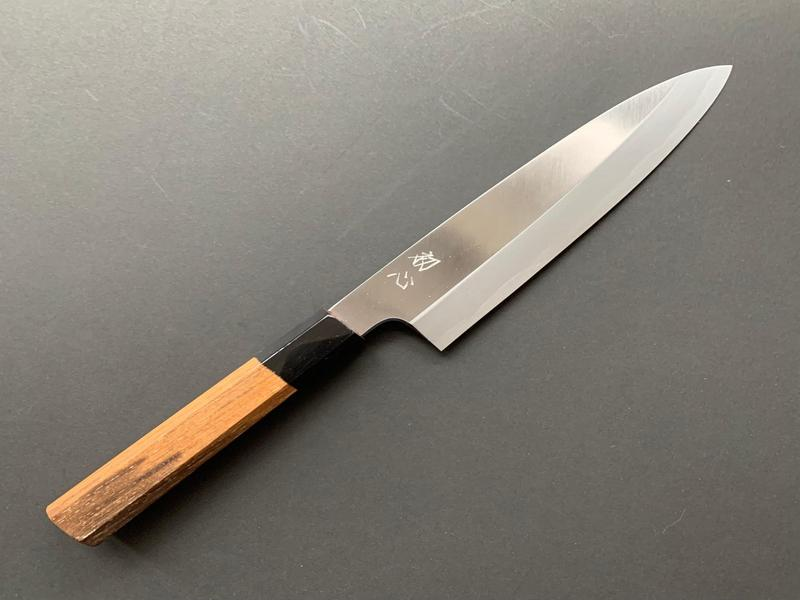KNIFE: (42, 60, 740, 555)
